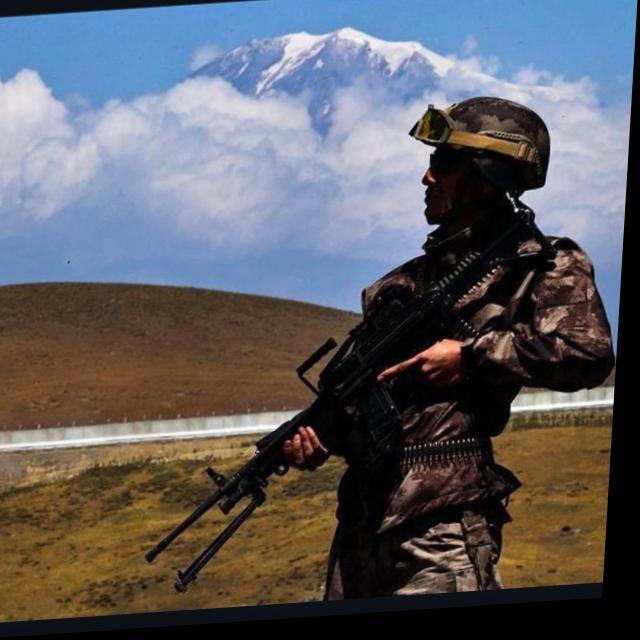poh_personel: (273, 94, 629, 624)
